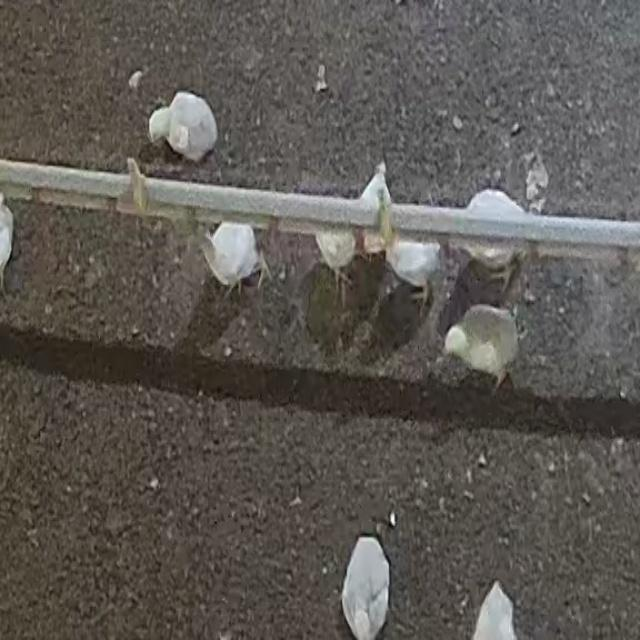chicken: (457, 190, 534, 289), (445, 304, 522, 395), (341, 533, 391, 640), (199, 222, 269, 298), (381, 215, 443, 300), (149, 91, 221, 159), (355, 165, 396, 266), (313, 227, 360, 302)
